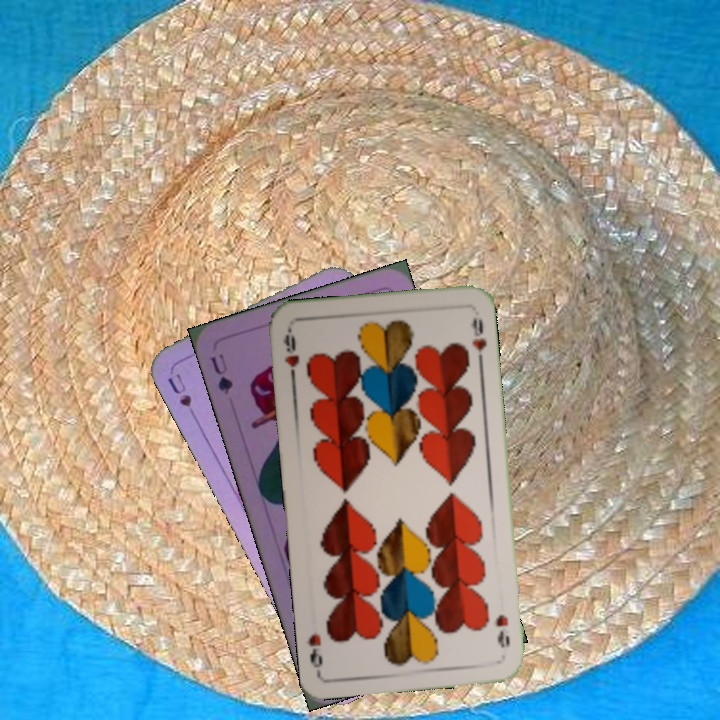GU: (206, 350, 236, 397)
H9: (279, 325, 302, 384), (492, 610, 512, 651)
SU: (163, 369, 202, 426)
